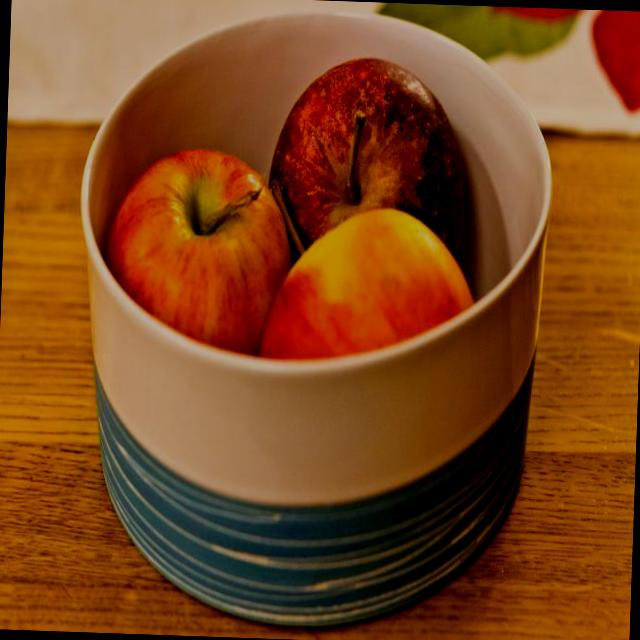Apple: (266, 52, 471, 263), (102, 143, 296, 354), (264, 204, 474, 384)
